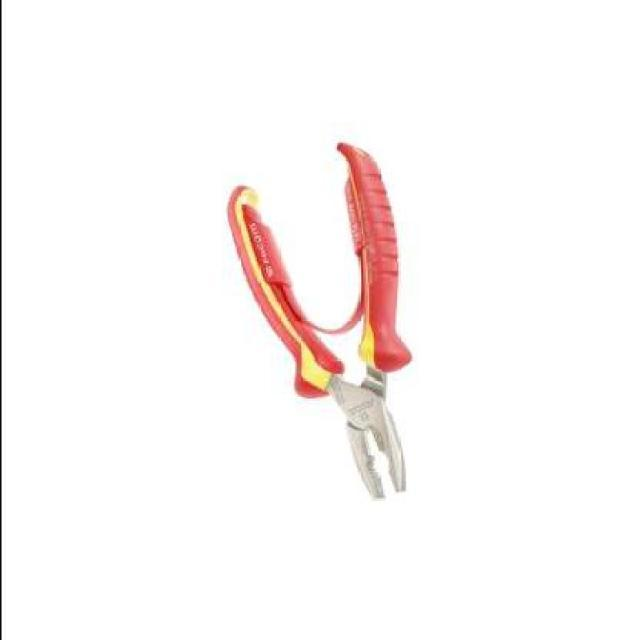pliers: (217, 138, 411, 514)
